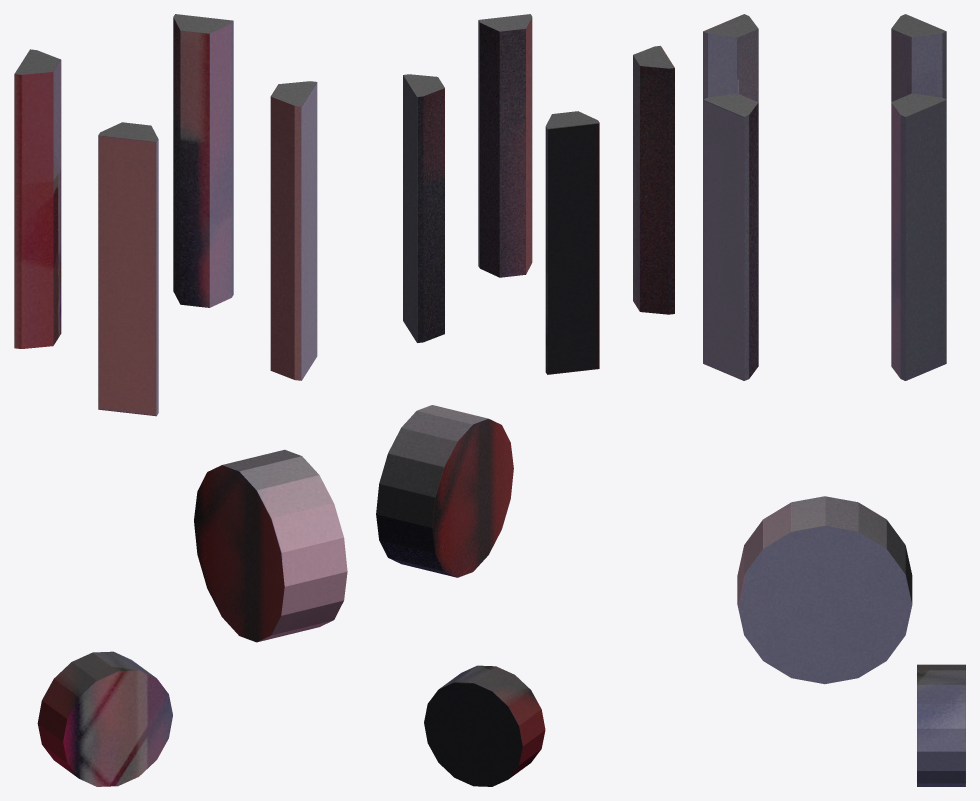
Rendered from antennas.glb.
3 views of the same model, side by side, from view 1: azimuth 30°, elevation 25°; view 2: azimuth 150°, elevation 25°; view 3: azimuth 270°, elevation 25° (orthographic). The views are drawn at different scales.
Parts seen in each view (by area): view 1: antennas; view 2: antennas; view 3: antennas.
Boxes of the visible parts, left/top/right/bottom form: antennas: left=14, top=14, right=347, bottom=786; antennas: left=376, top=14, right=674, bottom=786; antennas: left=703, top=14, right=965, bottom=786.
Size of the model in its own units: 2.48 by 7.15 by 2.38.
Materials: 1 (1 with a texture image).
